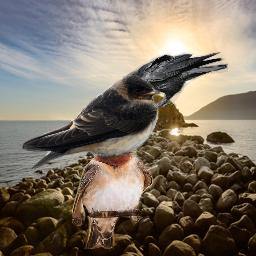Crow: (115, 52, 228, 108)
Swallow: (21, 75, 161, 171), (72, 136, 153, 249)
